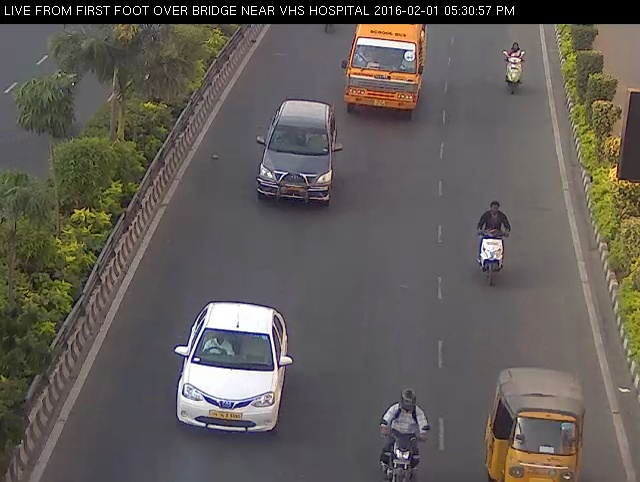Bus: (338, 13, 438, 125)
Car: (162, 294, 297, 448), (470, 353, 599, 481), (246, 96, 353, 208)
Person: (370, 378, 436, 482), (466, 195, 518, 294), (493, 36, 533, 100)
